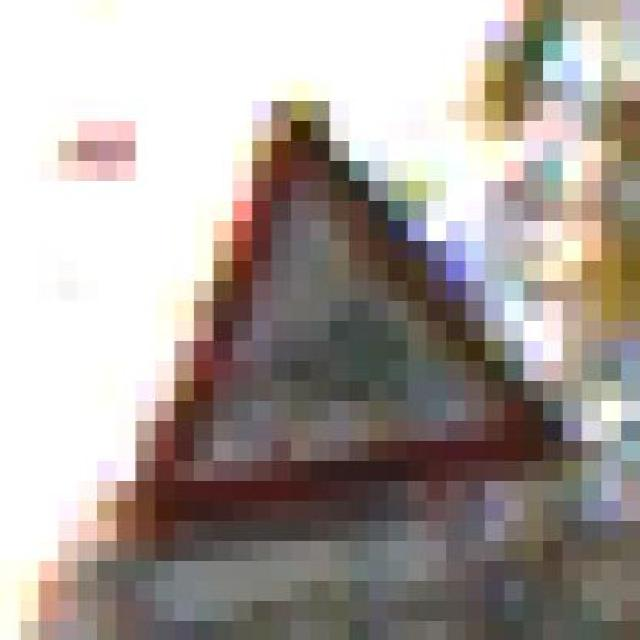CYCLE ROUTE AHEAD WARNING: (97, 100, 563, 520)
